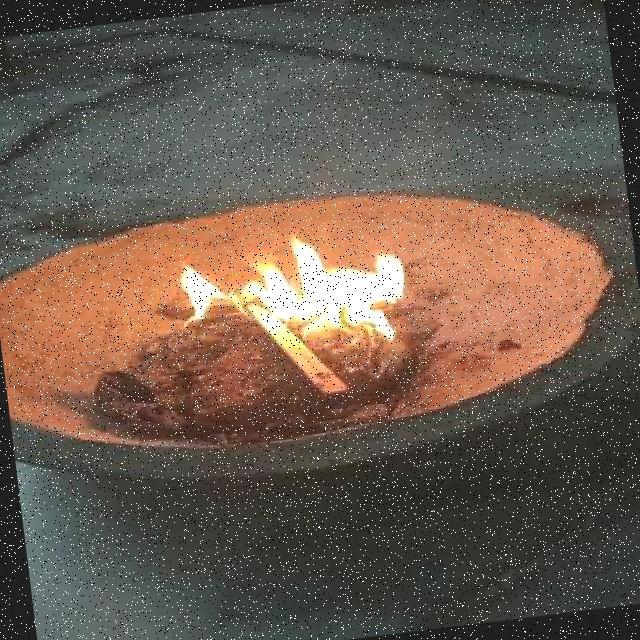Fire: (164, 214, 443, 368)
